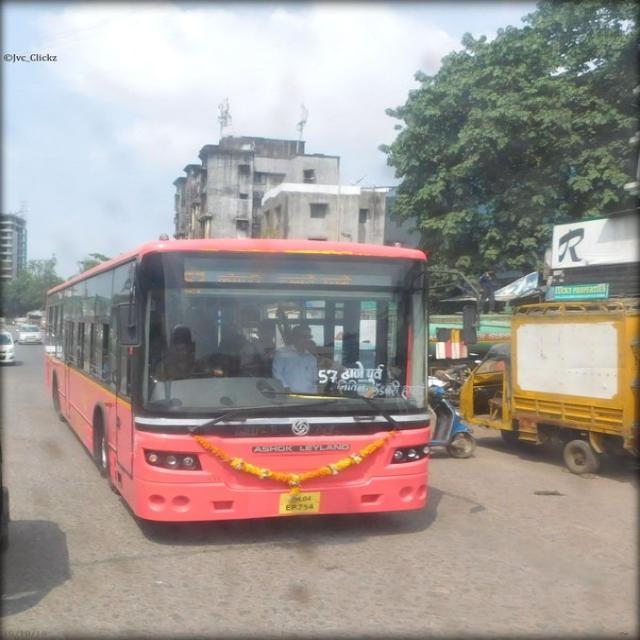Plate: (281, 489, 324, 517)
bus: (38, 259, 431, 526)
